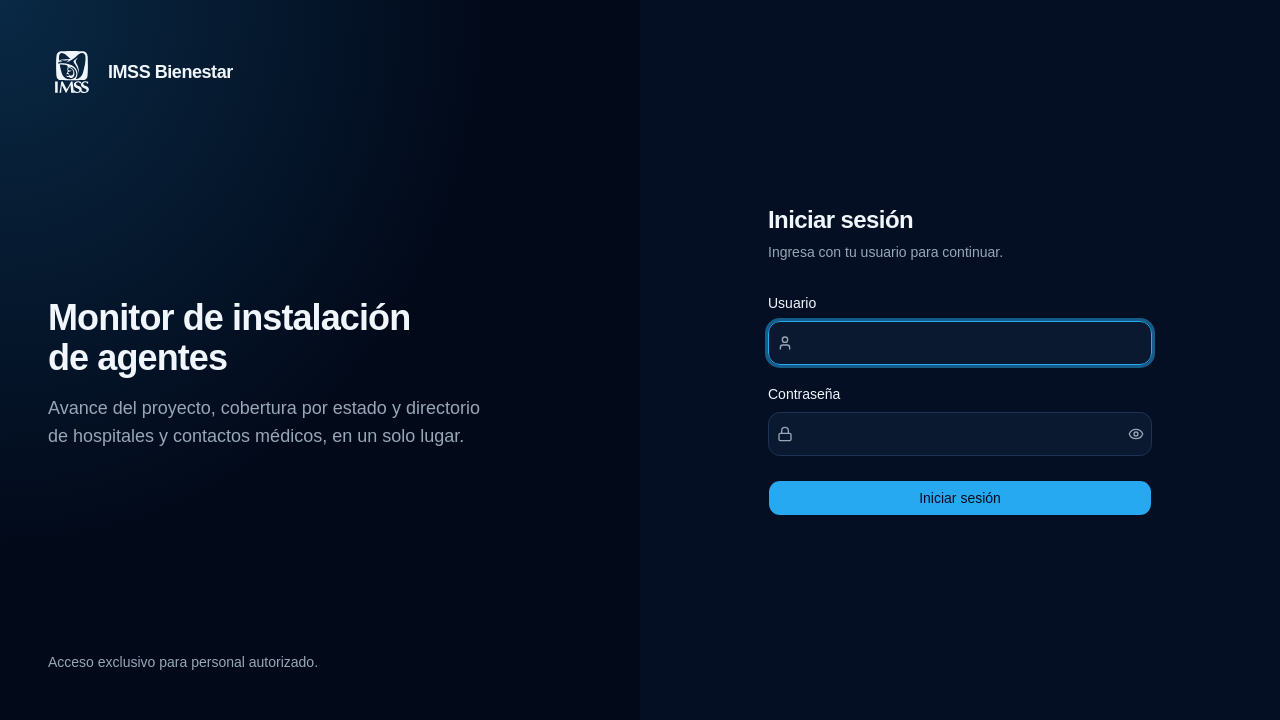
pantalla de login › al enviar vacío pide los dos datos y no intenta entrar
Click the button "Iniciar sesión": point(960, 498) [768, 480, 1152, 516]
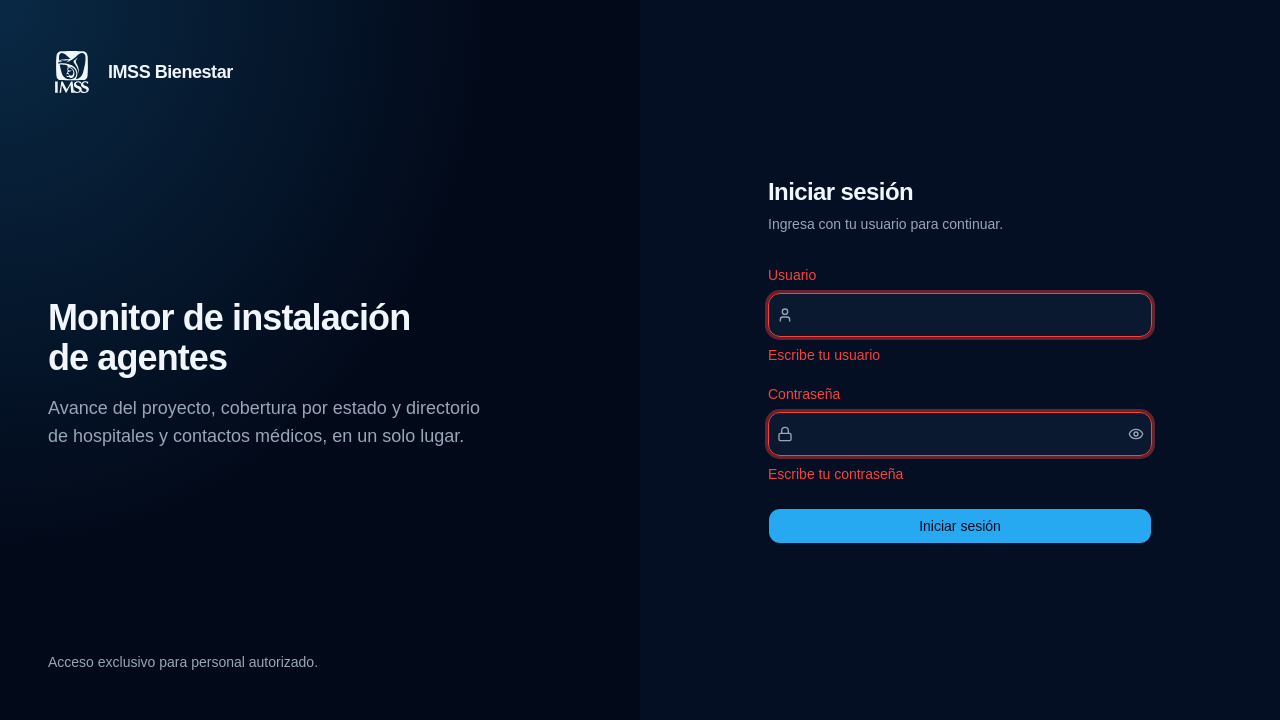
Check: the heading "Iniciar sesión" is shown, box [768, 178, 913, 205]
Check: the text "Escribe tu usuario" is shown, box [768, 347, 880, 363]
Check: the text "Escribe tu contraseña" is shown, box [768, 466, 903, 482]
